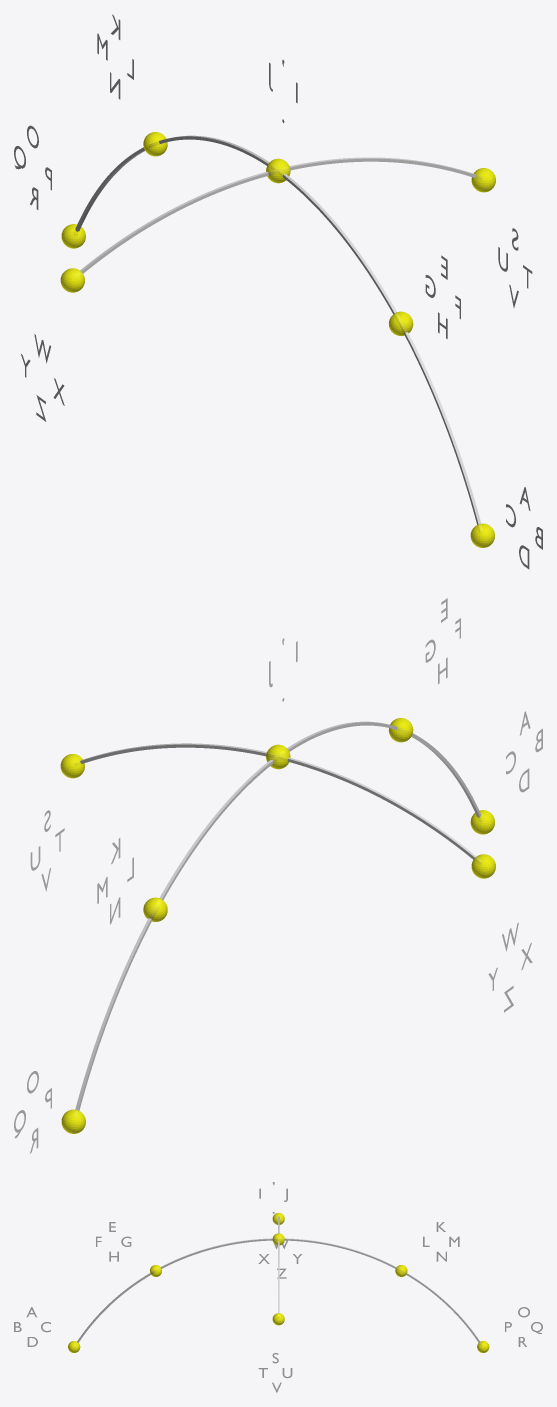
The model's file is Orbit.fbx.
The picture shows the model from 3 angles, top to bottom: view 1: azimuth 30°, elevation 25°; view 2: azimuth 150°, elevation 25°; view 3: azimuth 270°, elevation 25°; orthographic projection. The views are drawn at different scales.
Visible parts, largest first — view 1: Cube, Cube.001; view 2: Cube, Cube.001; view 3: Cube.
Part boxes in pixels (<box>): Cube: <box>74,135,482,531</box>; Cube.001: <box>74,157,481,278</box>; Cube: <box>74,721,482,1117</box>; Cube.001: <box>74,743,481,864</box>; Cube: <box>75,1238,481,1345</box>.
Bounding box in the file's own units: 660 × 460 × 1293.
